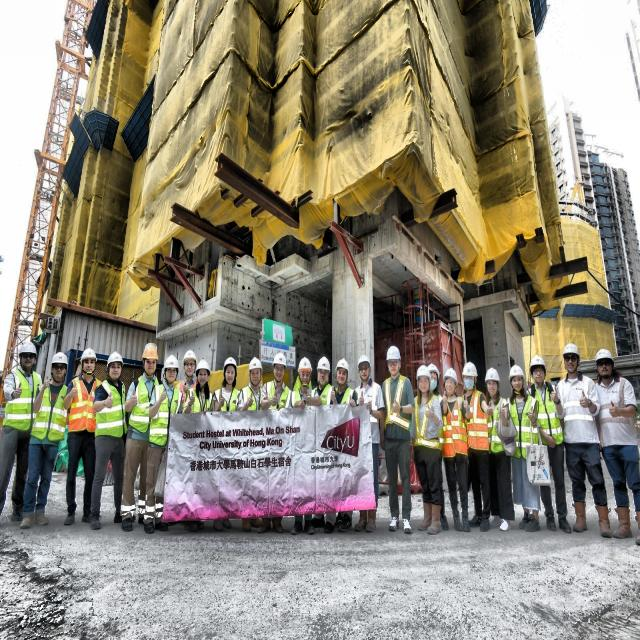safety_helmet: (556, 339, 586, 370), (139, 338, 163, 372), (460, 353, 487, 383), (102, 344, 123, 372), (18, 335, 39, 363), (529, 354, 549, 383), (193, 356, 216, 380), (412, 360, 434, 385), (422, 356, 442, 383), (509, 362, 533, 384), (353, 351, 373, 376), (461, 356, 480, 382), (330, 357, 351, 378), (52, 347, 70, 371), (596, 342, 615, 364), (162, 347, 178, 373), (381, 347, 404, 365), (80, 346, 100, 366), (487, 366, 502, 392), (439, 367, 459, 383), (221, 354, 237, 374), (316, 357, 332, 375), (246, 359, 263, 375), (272, 352, 289, 368), (298, 356, 311, 375), (184, 350, 198, 366), (161, 367, 163, 370)
safety_jacket: (559, 371, 603, 447), (596, 374, 636, 451), (27, 386, 69, 451), (401, 397, 439, 462), (434, 388, 468, 460), (120, 378, 159, 439), (90, 382, 133, 437), (142, 388, 182, 446), (4, 370, 40, 433), (544, 382, 574, 447), (381, 375, 410, 439), (513, 393, 541, 458), (60, 382, 97, 431), (461, 390, 488, 450), (486, 388, 508, 461), (257, 385, 303, 413), (211, 387, 244, 419), (304, 383, 334, 405), (283, 383, 313, 404), (329, 387, 356, 408), (238, 388, 264, 409), (181, 392, 204, 414)
